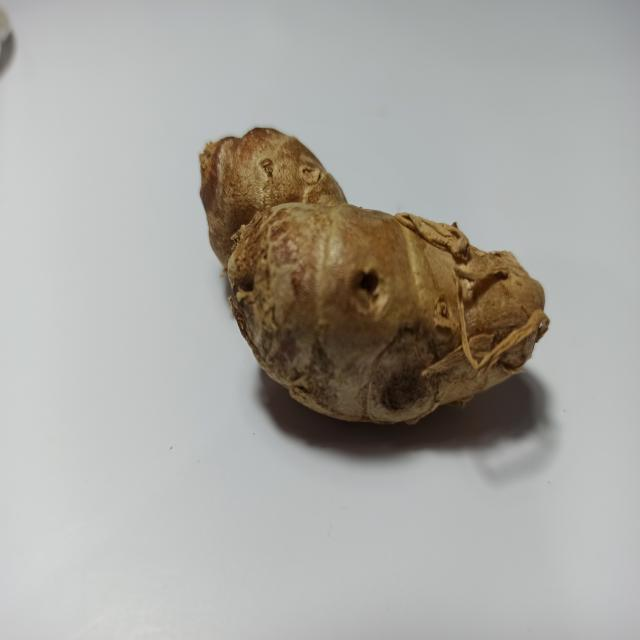ginger: (194, 121, 546, 418)
